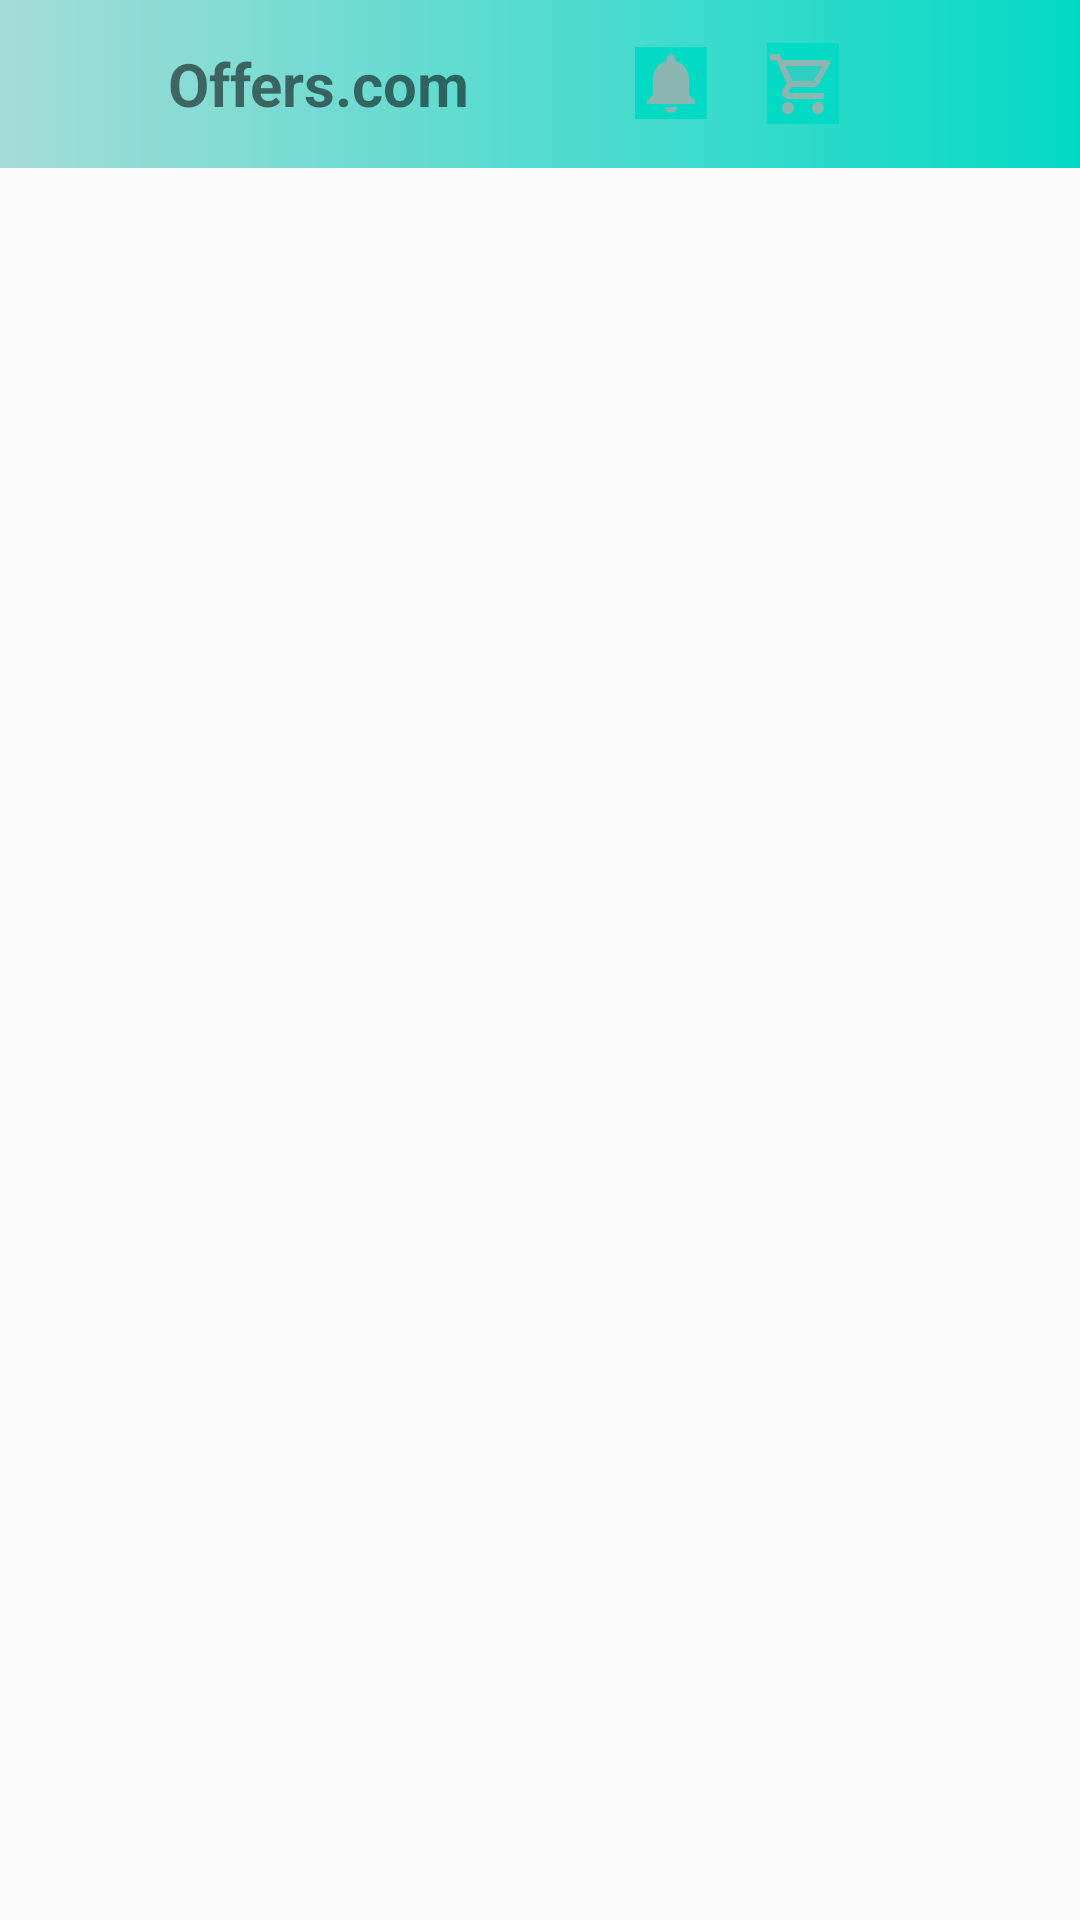

Locate icon controls on the screen. Image size 1080*1920, boxes as Rect(x1, y1, x2, y2).
My Cart: Rect(767, 43, 839, 124)
My Notifications: Rect(635, 47, 707, 119)
